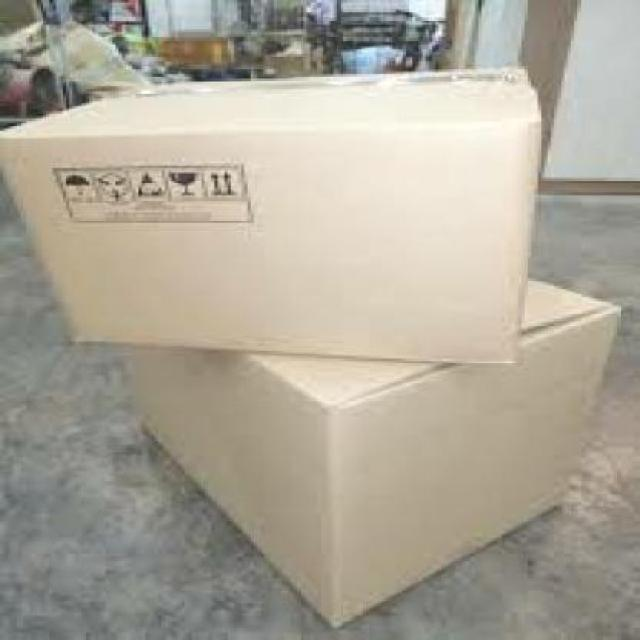box: (93, 299, 630, 633), (3, 76, 551, 381)
